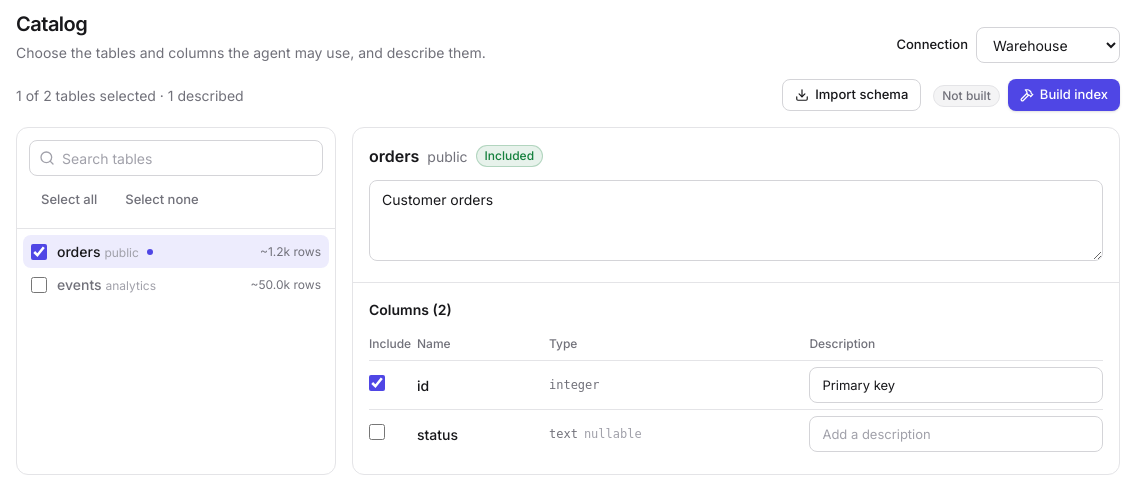
Test: table list and stats › filters tables by search
expect the checkbox named "Include public.orders" is shown: met, box [31, 244, 47, 260]
Type "event" into the search field labelled "Search tables".
click(176, 158); type("event")  # box [29, 140, 323, 176]
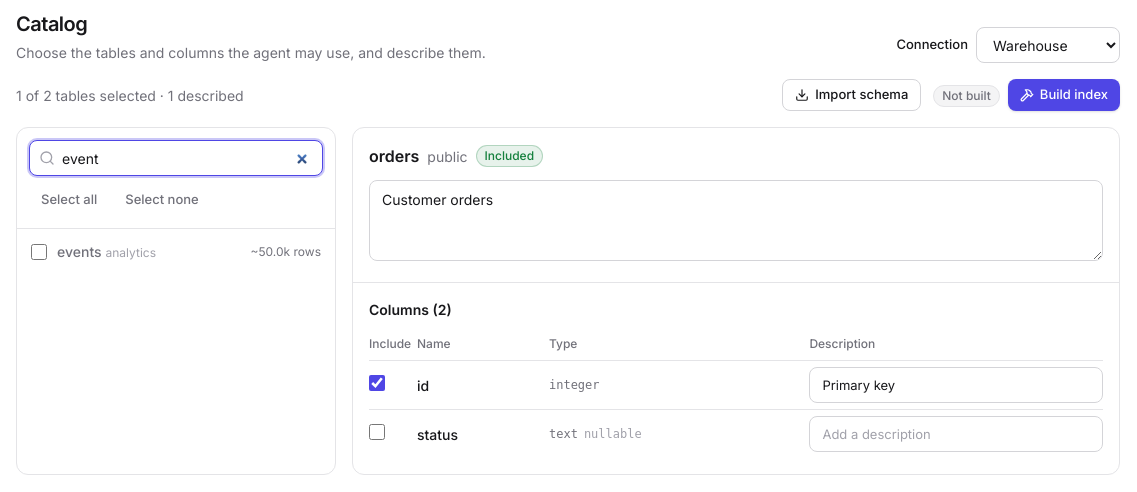
expect the checkbox named "Include analytics.events" is shown: met, box [31, 244, 47, 260]
Replace the text in the search field named "Search tables" with "zzz" at [176, 158], box [29, 140, 323, 176]
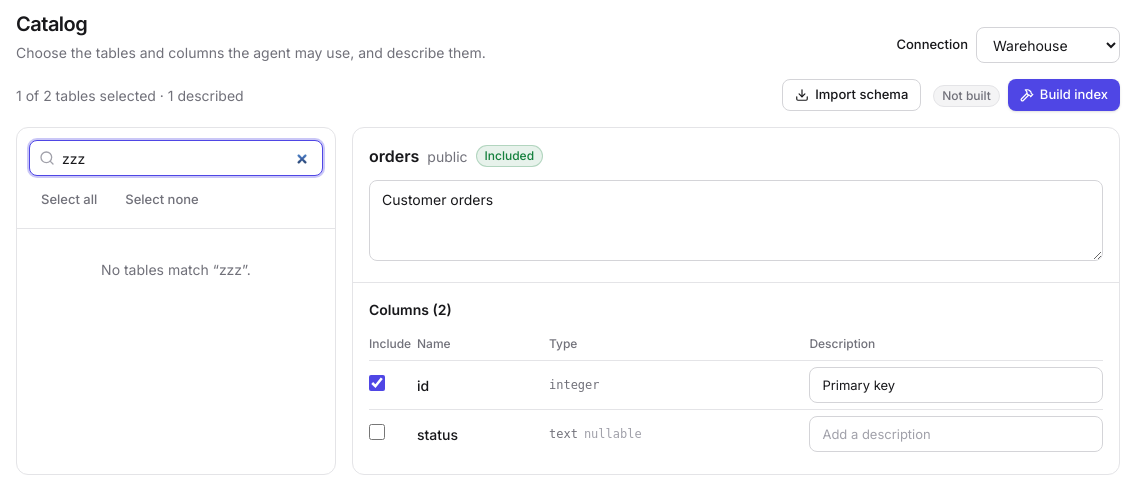
expect the list item "No tables match “zzz”." is shown: met, box [101, 261, 251, 278]
